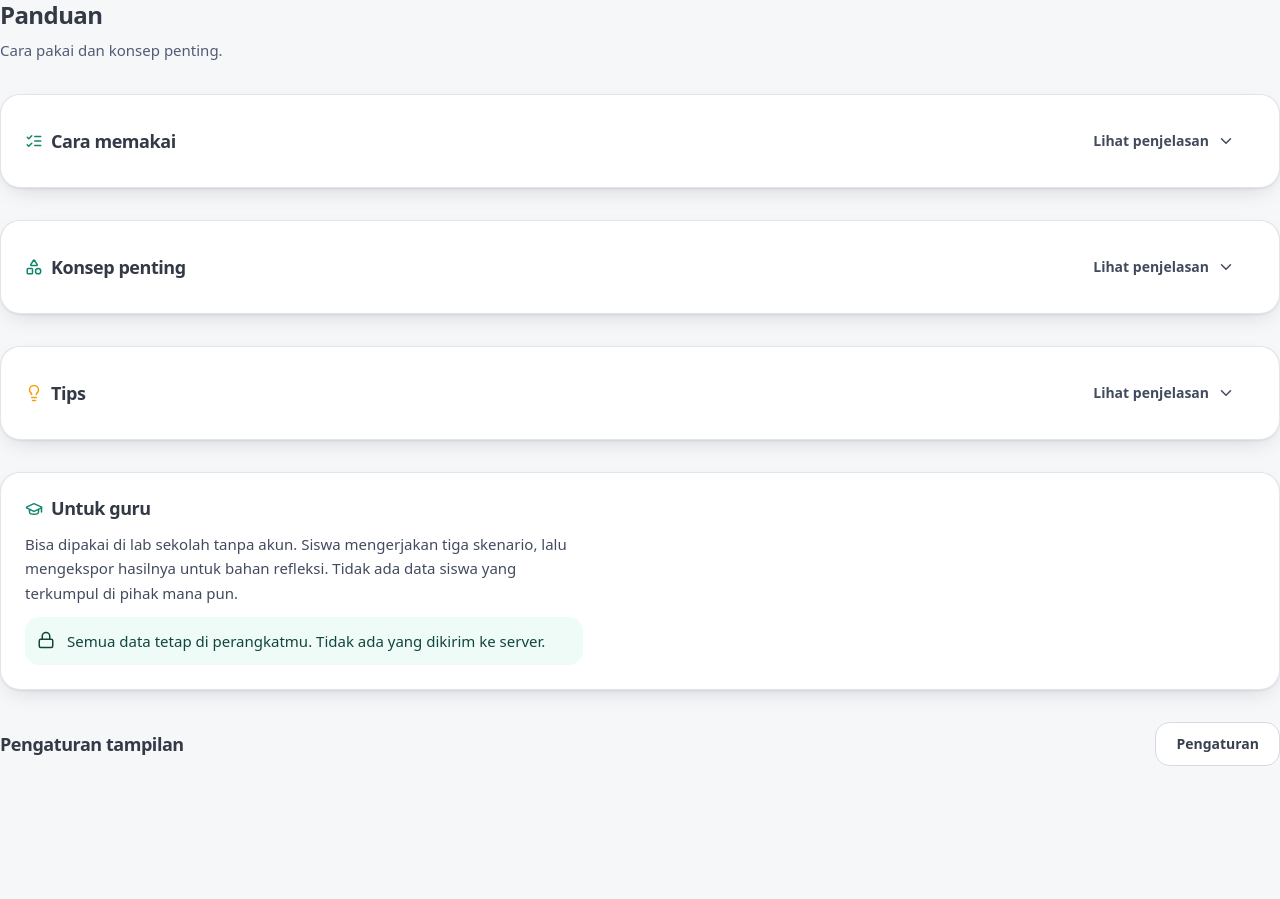
Scenario: GuidePage — konten panduan › menampilkan langkah cara memakai setelah accordion dibuka
The width and height of the screenshot is (1280, 899).
Expected: the heading "Cara memakai" is shown, [25,130,176,153]
Click the button "Lihat penjelasan" in the row of "Cara memakai". click: coordinates (1164, 141)
box: [1073,119,1255,163]
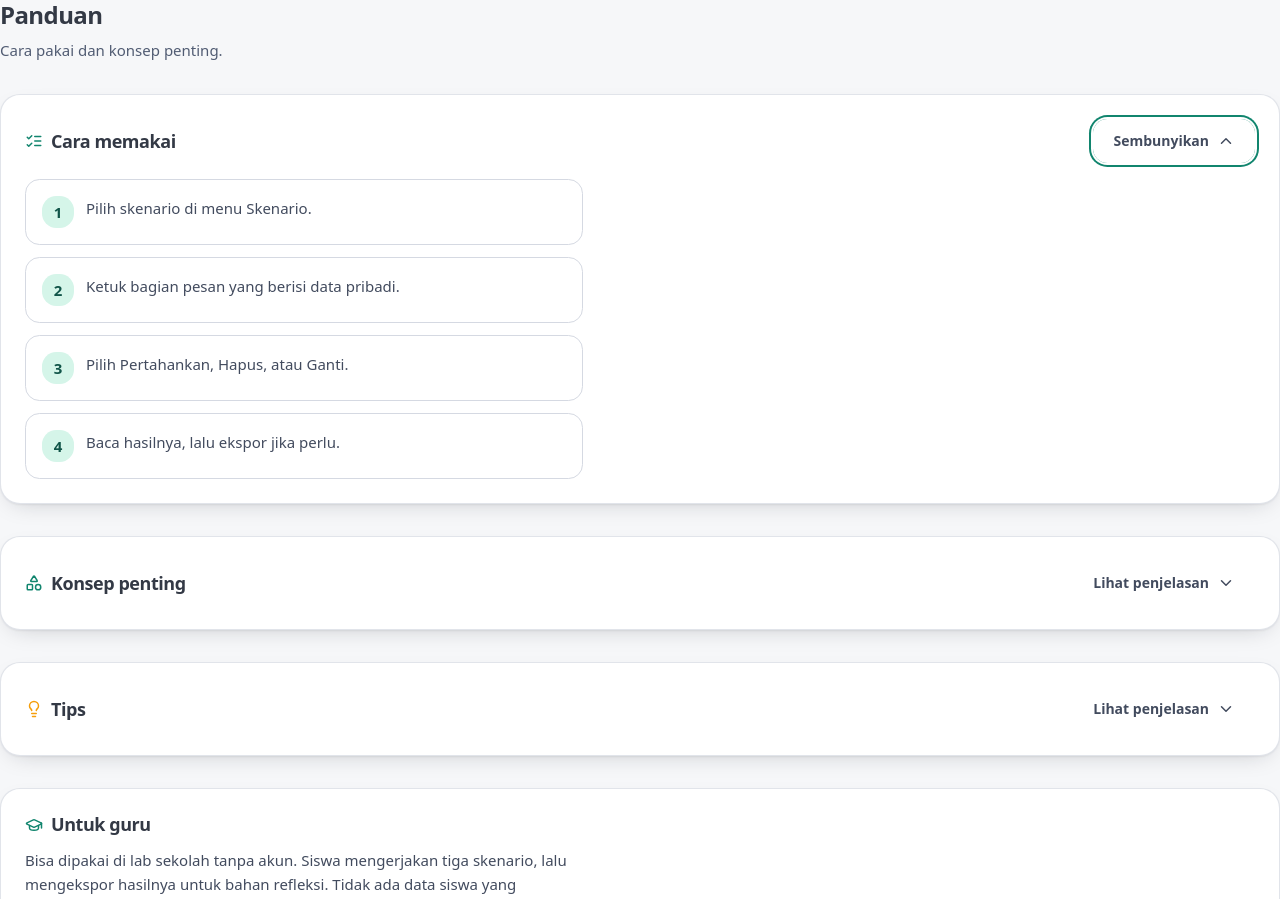
Expected: the button "Sembunyikan" is expanded, [1093,119,1255,163]
Expected: the number of list items is 4, [25,179,583,245]; [25,257,583,323]; [25,335,583,401]; [25,413,583,479]
Expected: the text "Pilih skenario di menu Skenario." is shown, [86,196,312,221]
